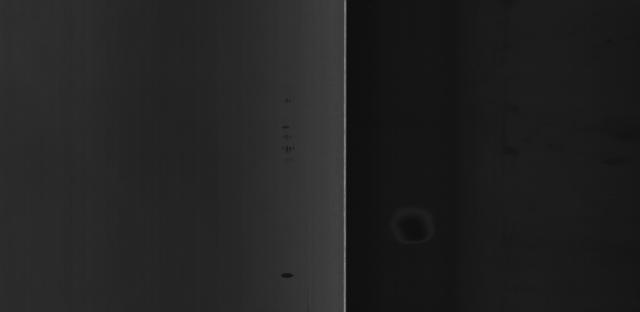oil_spot: (270, 96, 300, 164), (270, 263, 304, 287)
